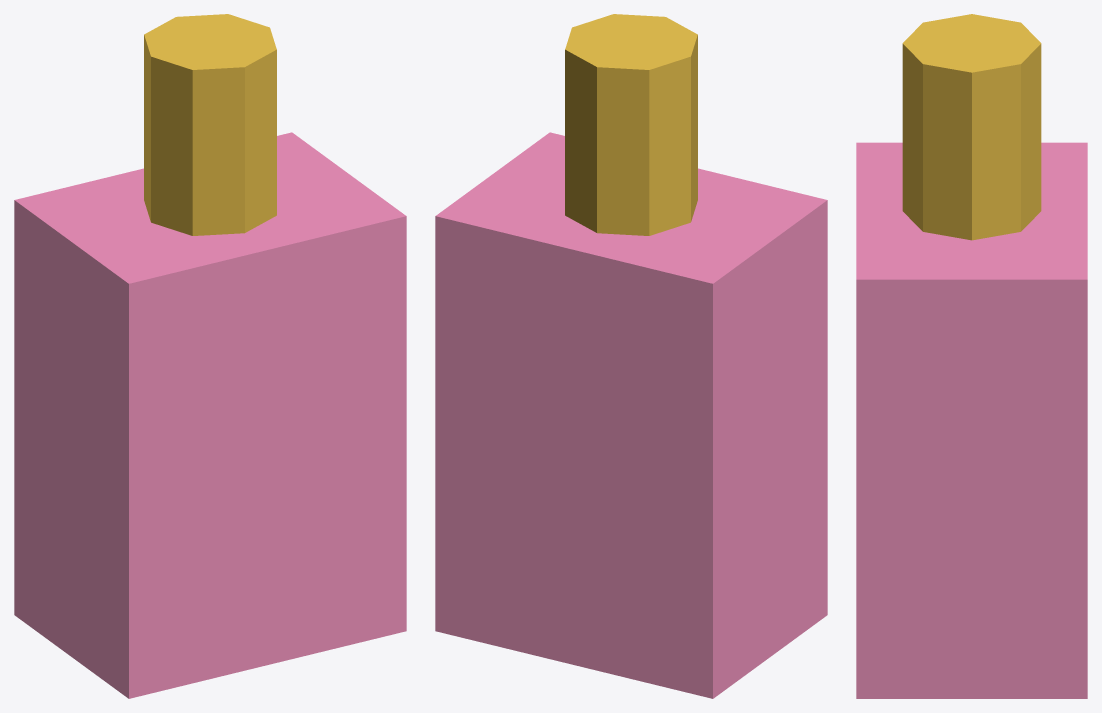
Rendered from perfume_bottle.glb.
The picture shows the model from 3 angles, left to right: view 1: azimuth 30°, elevation 25°; view 2: azimuth 150°, elevation 25°; view 3: azimuth 270°, elevation 25°; orthographic projection.
Parts seen in each view (by area): view 1: glass, cap_perfume_cap; view 2: glass, cap_perfume_cap; view 3: glass, cap_perfume_cap.
Part boxes in pixels (left/top/right/bottom): glass: left=14, top=132, right=406, bottom=698; cap_perfume_cap: left=144, top=14, right=276, bottom=235; glass: left=435, top=132, right=827, bottom=698; cap_perfume_cap: left=565, top=14, right=697, bottom=235; glass: left=856, top=142, right=1087, bottom=698; cap_perfume_cap: left=902, top=14, right=1041, bottom=240.
Bounding box in the file's own units: 0.07 × 0.14 × 0.05.
